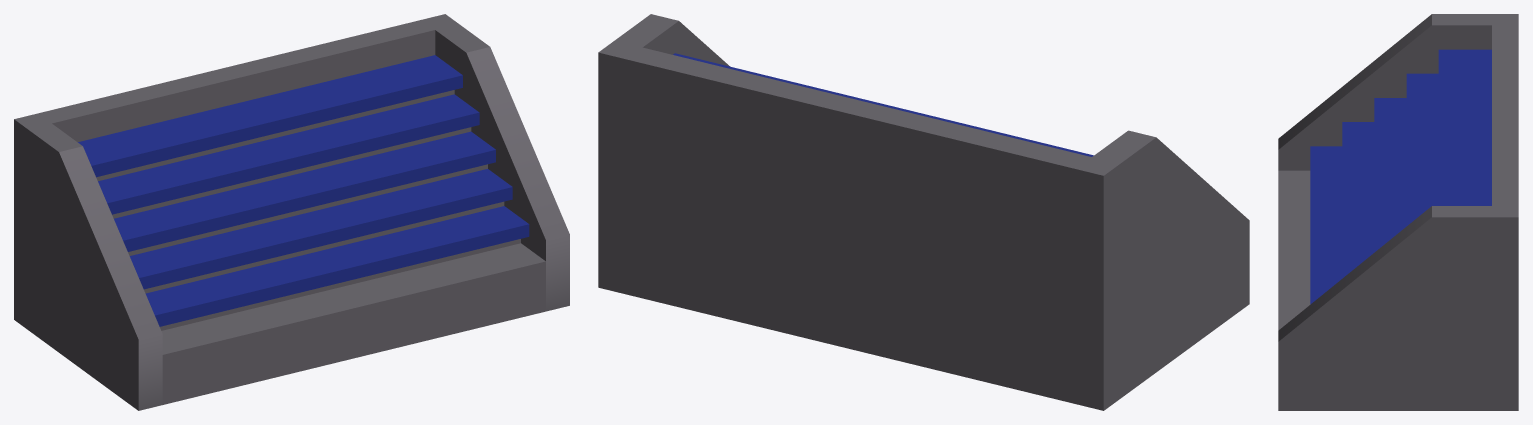
File: stand.fbx
The picture shows the model from 3 angles, left to right: view 1: azimuth 30°, elevation 25°; view 2: azimuth 150°, elevation 25°; view 3: azimuth 270°, elevation 25°; orthographic projection. The views are drawn at different scales.
Parts seen in each view (by area): view 1: Cube; view 2: Cube; view 3: Cube.
Boxes of the visible parts, x1,y1,x2,y2 form: Cube: (14,14,569,410); Cube: (598,14,1249,410); Cube: (1278,14,1518,410).
Size of the model in its own units: 900 by 400 by 450.
